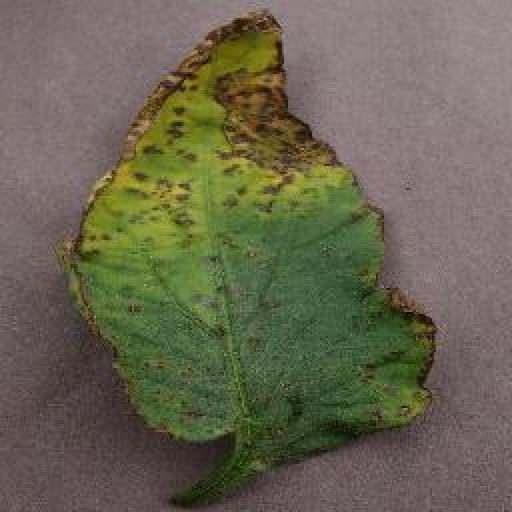Bacterial Spot: (59, 4, 441, 476)
